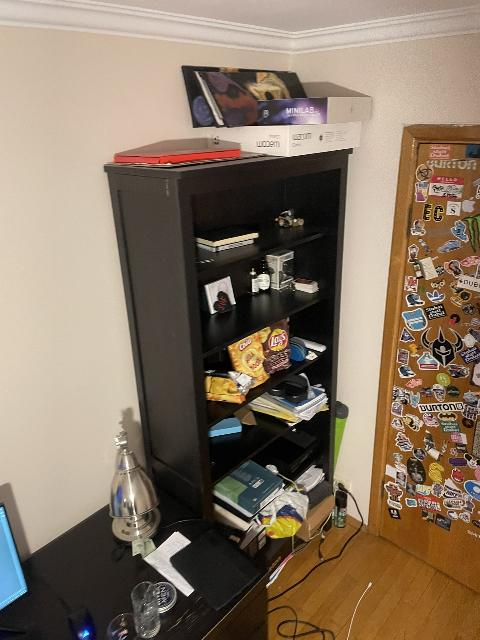Chio Cascaval 125g: (205, 374, 248, 404)
Chio Hula Hoops Cheese 70g: (227, 327, 274, 388)
Lays Beef Grilled Ribs 125g: (260, 322, 292, 375)
